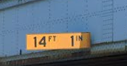1: (68, 34, 75, 48), (31, 34, 37, 48)
4: (36, 35, 47, 48)
overheadsign: (25, 33, 91, 50)
